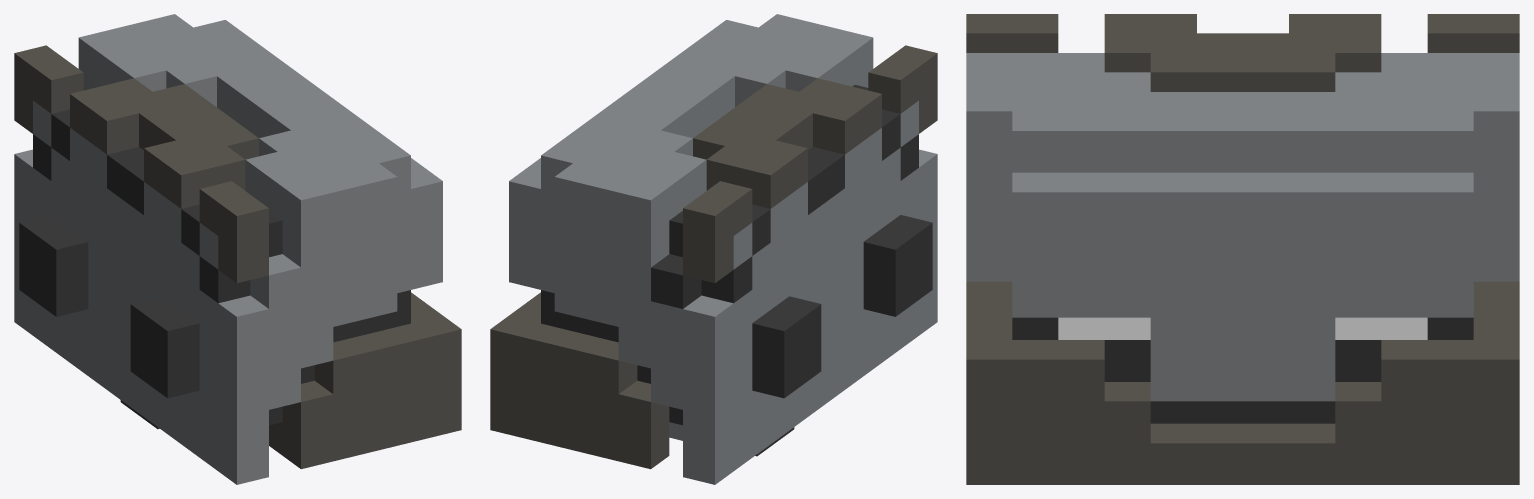
File: Mecha01_left_shoulder.obj
The picture shows the model from 3 angles, left to right: view 1: azimuth 30°, elevation 25°; view 2: azimuth 150°, elevation 25°; view 3: azimuth 270°, elevation 25°; orthographic projection. The views are drawn at different scales.
Size of the model in its own units: 0.8 by 0.9 by 1.2.
1 material, 1 textured.
